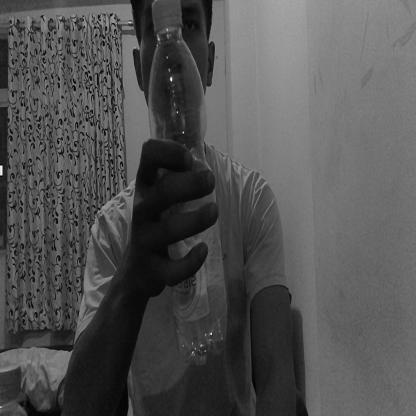plastic_bottles: (149, 0, 229, 369)
